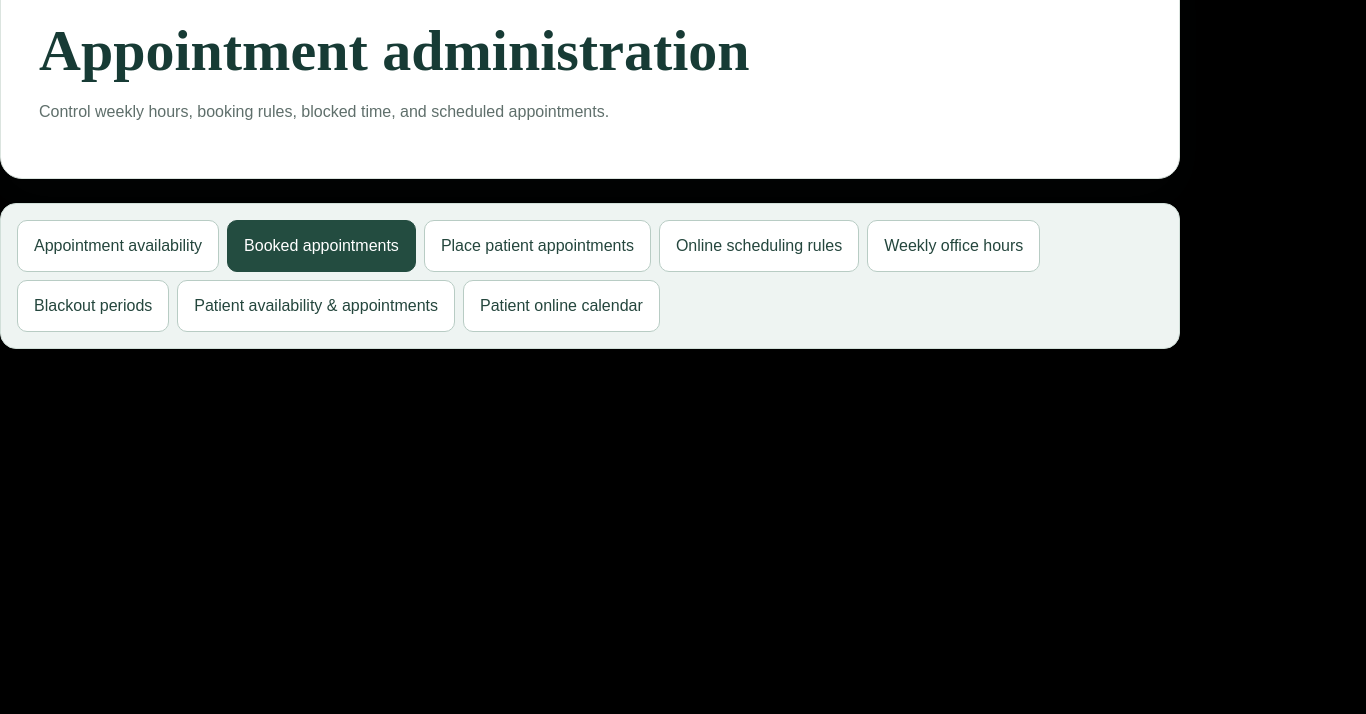
Test: Pause/Enable uses the registered server operation and preserves state on approval failure
Click the button "Weekly office hours": (954, 246) [867,220,1040,272]
(page scrolled)
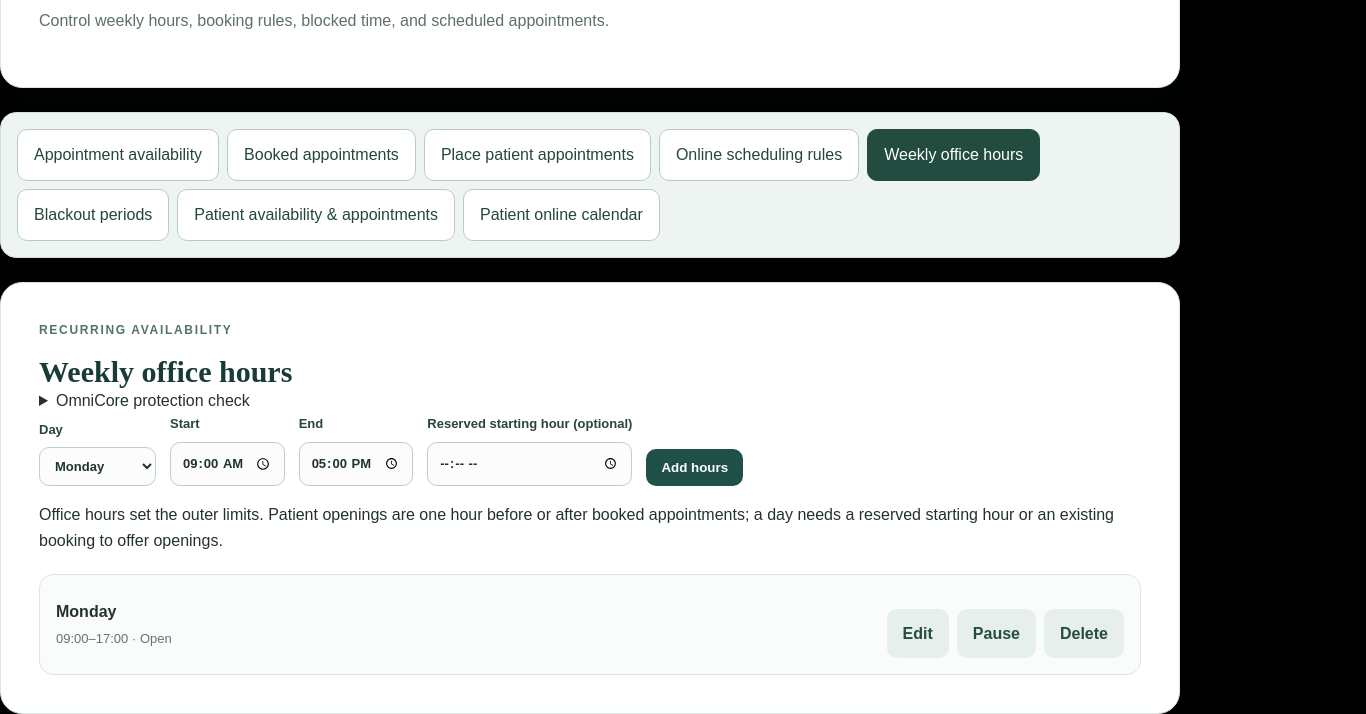
Click the button "Pause": (996, 633) [957,608,1036,658]
(page scrolled)
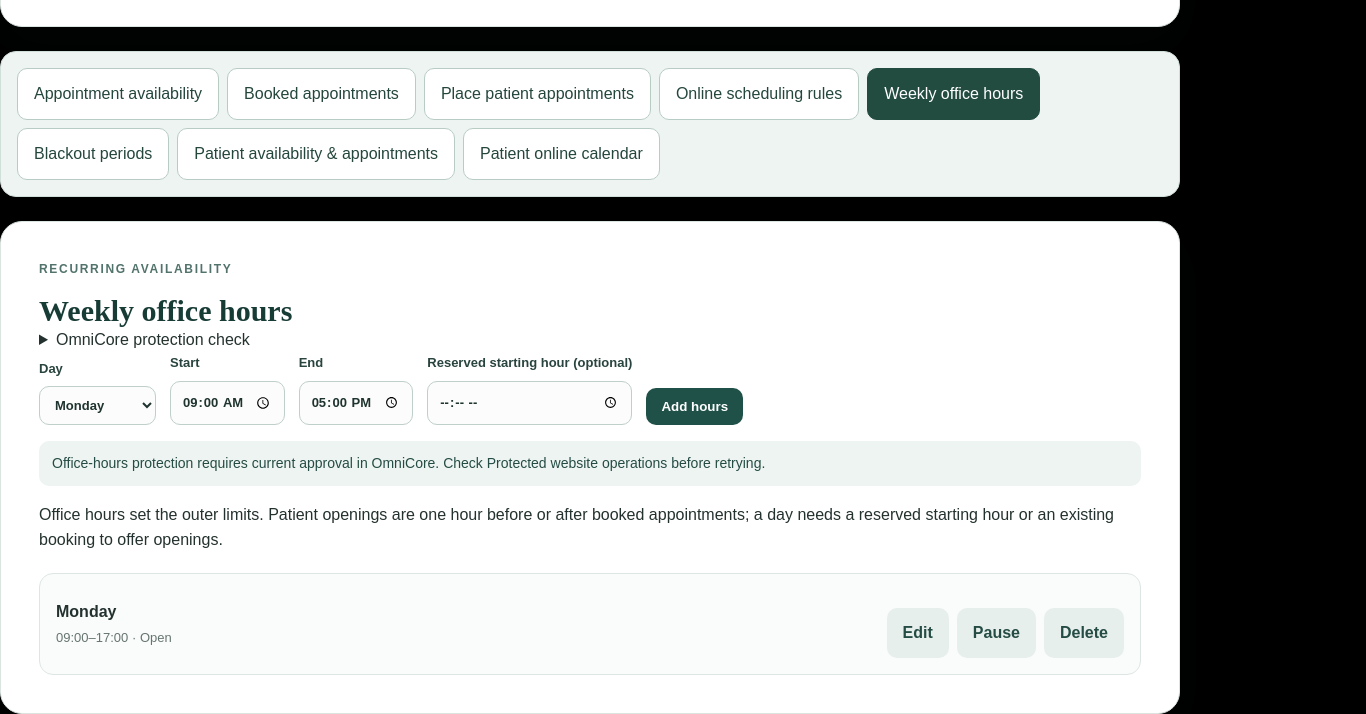
Now the button "Pause" is shown
Now the text "requires current approval in OmniCore" is shown, box [52,455,765,471]
Click the button "Pause": (996, 633) [957,608,1036,658]
(page scrolled)
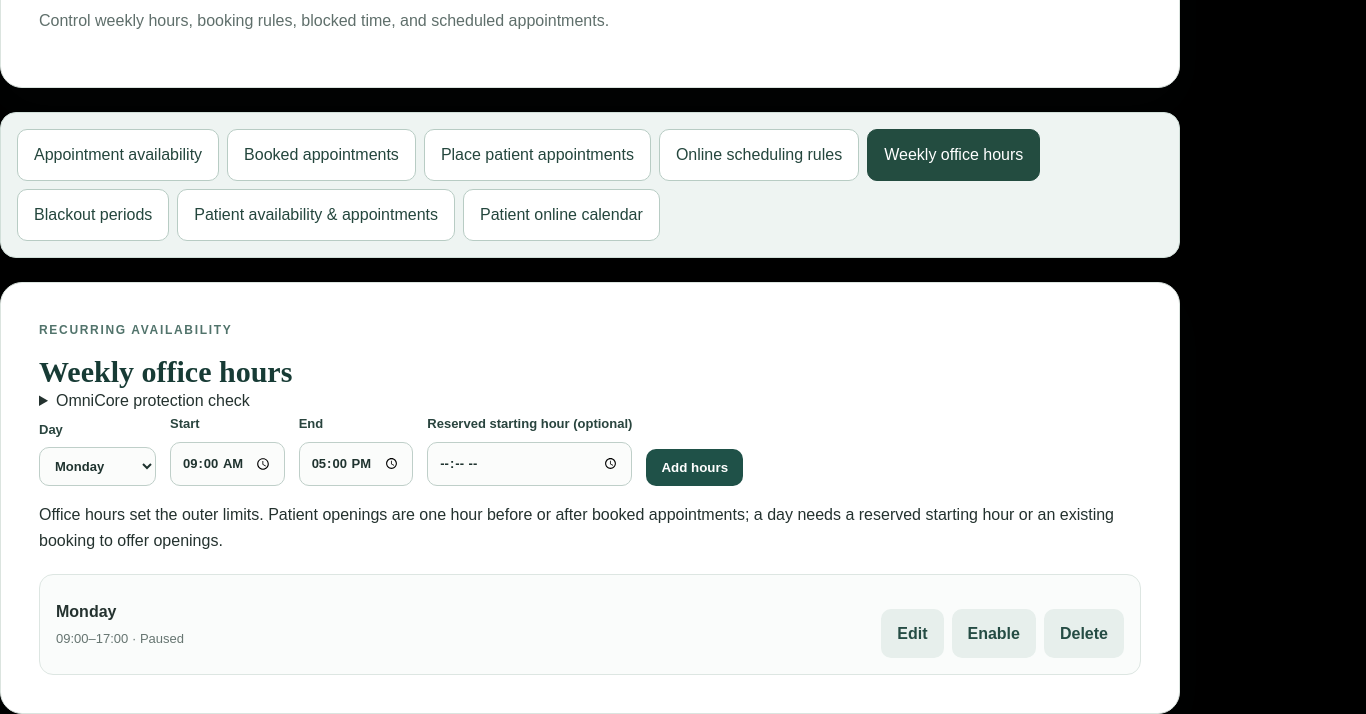
Now the button "Enable" is shown, box [952,608,1036,658]
